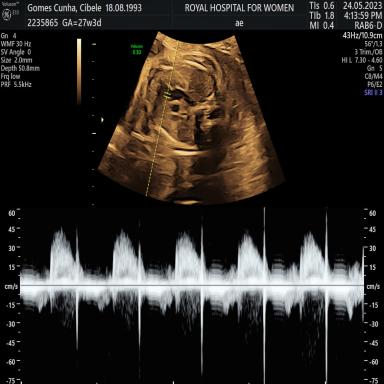Ultrasound-Waves: (28, 210, 361, 384)
